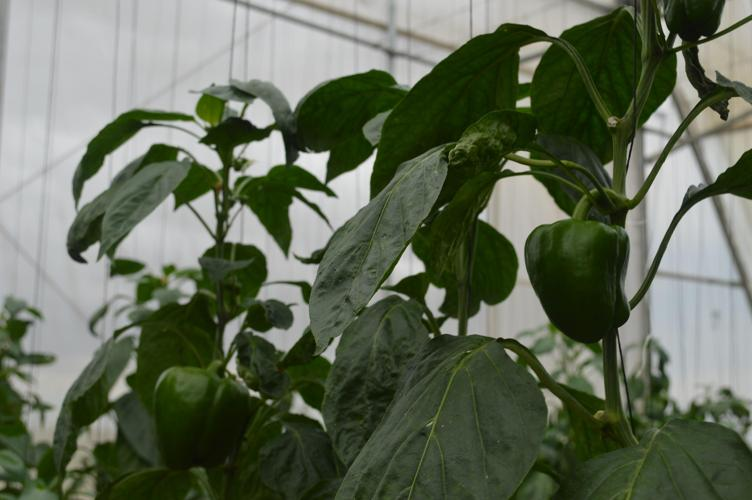BellPepper: (515, 211, 648, 352), (141, 357, 255, 468)
